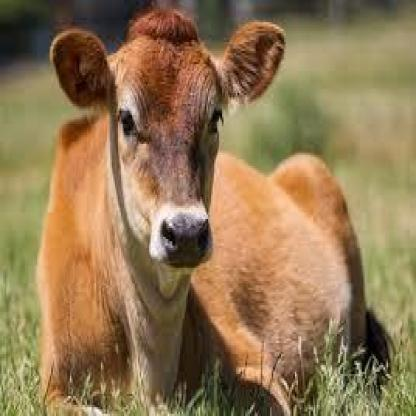cow: (37, 9, 366, 416)
